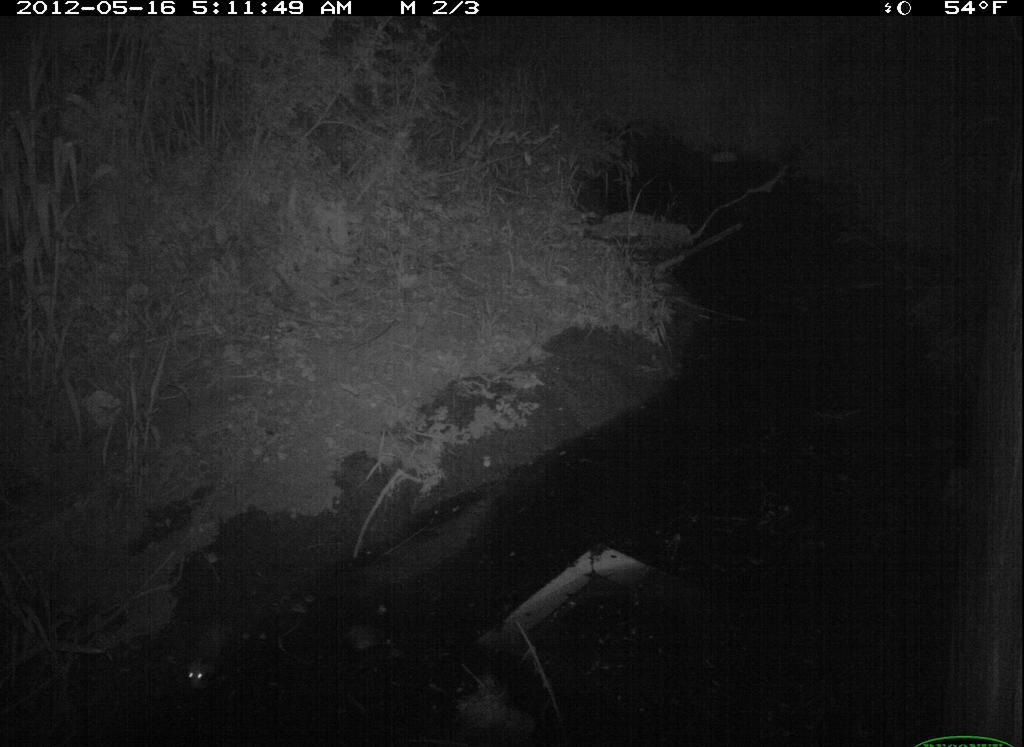opossum: (176, 614, 251, 699)
